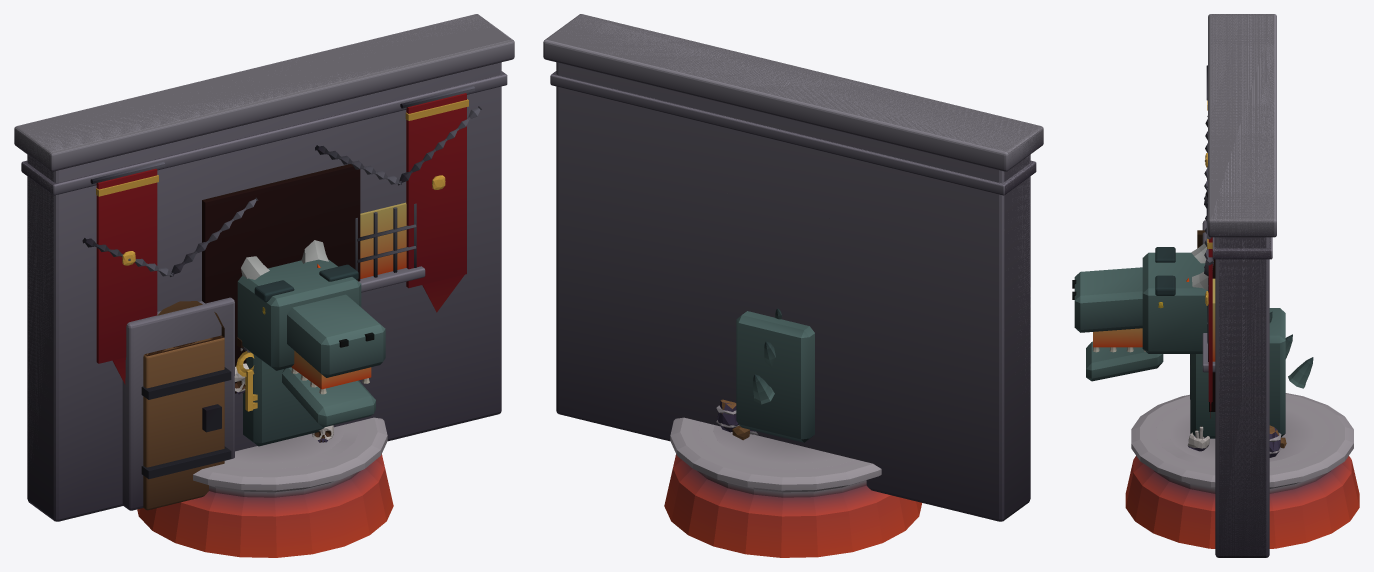
File: fortress-s10-D4ZJpnJ9.glb
The picture shows the model from 3 angles, left to right: view 1: azimuth 30°, elevation 25°; view 2: azimuth 150°, elevation 25°; view 3: azimuth 270°, elevation 25°; orthographic projection. The views are drawn at different scales.
Parts seen in each view (by area): view 1: sc_keep_dragon, sc_keep_cell, sc_z0_1, sc_z0_3, sc_z1_2; view 2: sc_keep_dragon, sc_keep_cell, sc_z0_1, sc_z0_3, sc_z1_2; view 3: sc_keep_dragon, sc_keep_cell, sc_z0_1, sc_z0_3, sc_z1_2.
Boxes of the visible parts, box(x1,y1,x2,y2) form: sc_keep_dragon: box(14, 14, 514, 521); sc_keep_cell: box(14, 14, 514, 519); sc_z0_1: box(137, 417, 393, 557); sc_z0_3: box(229, 425, 344, 463); sc_z1_2: box(220, 337, 359, 469); sc_keep_dragon: box(543, 14, 1042, 521); sc_keep_cell: box(545, 14, 1043, 519); sc_z0_1: box(664, 417, 921, 557); sc_z0_3: box(713, 399, 841, 463); sc_z1_2: box(698, 421, 855, 469); sc_keep_dragon: box(1072, 14, 1313, 557); sc_keep_cell: box(1186, 14, 1274, 557); sc_z0_1: box(1125, 393, 1359, 548); sc_z0_3: box(1170, 408, 1315, 461); sc_z1_2: box(1156, 402, 1328, 467).
Size of the model in its own units: 27 by 23.35 by 15.82.
